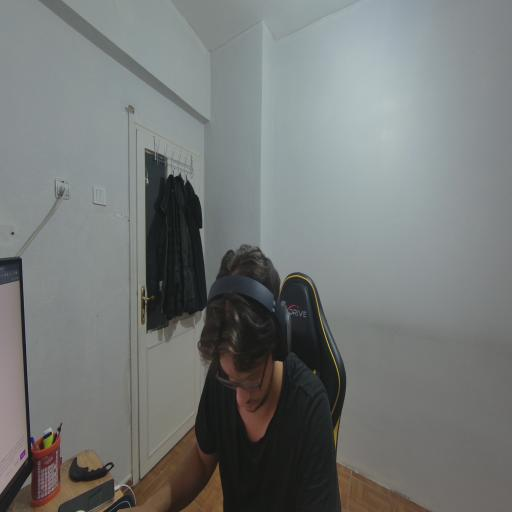cuma-face-v2: (200, 244, 299, 414)
